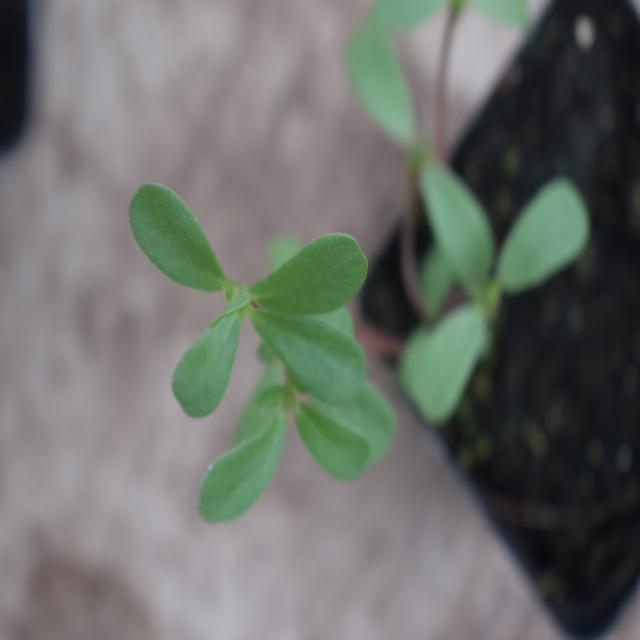purslane: (113, 176, 398, 510)
